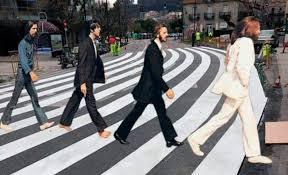pedestrian: (187, 7, 279, 174), (117, 11, 187, 151), (2, 10, 59, 137), (67, 13, 114, 144)
